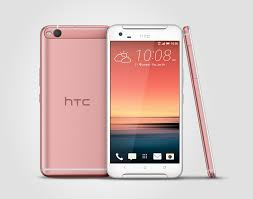htc: (105, 19, 185, 178), (36, 23, 112, 180)
